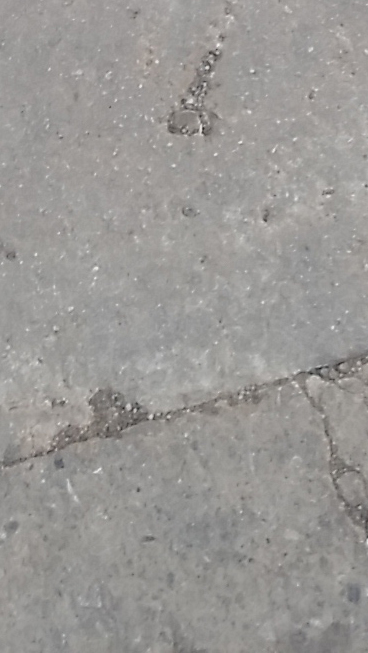A: (4, 324, 368, 556)
